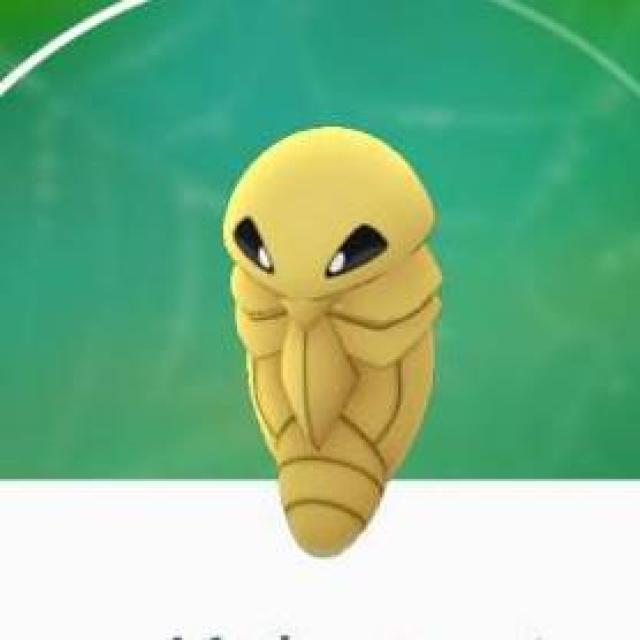Kakuna: (221, 120, 440, 563)
